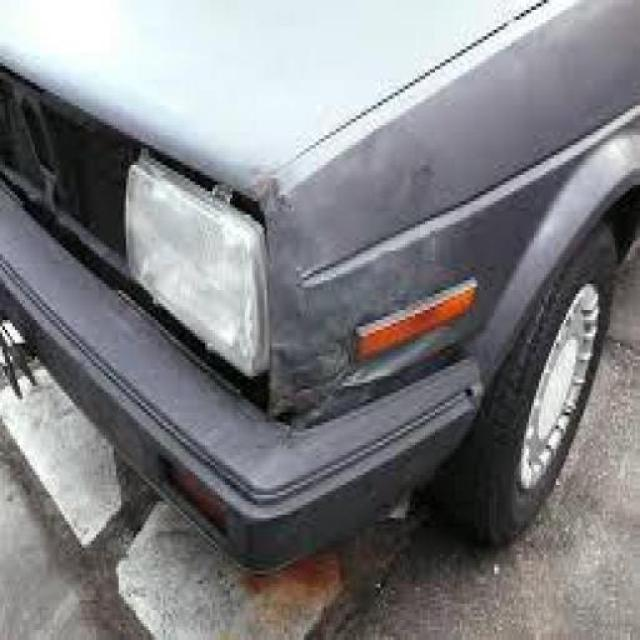dent: (230, 139, 462, 430)
